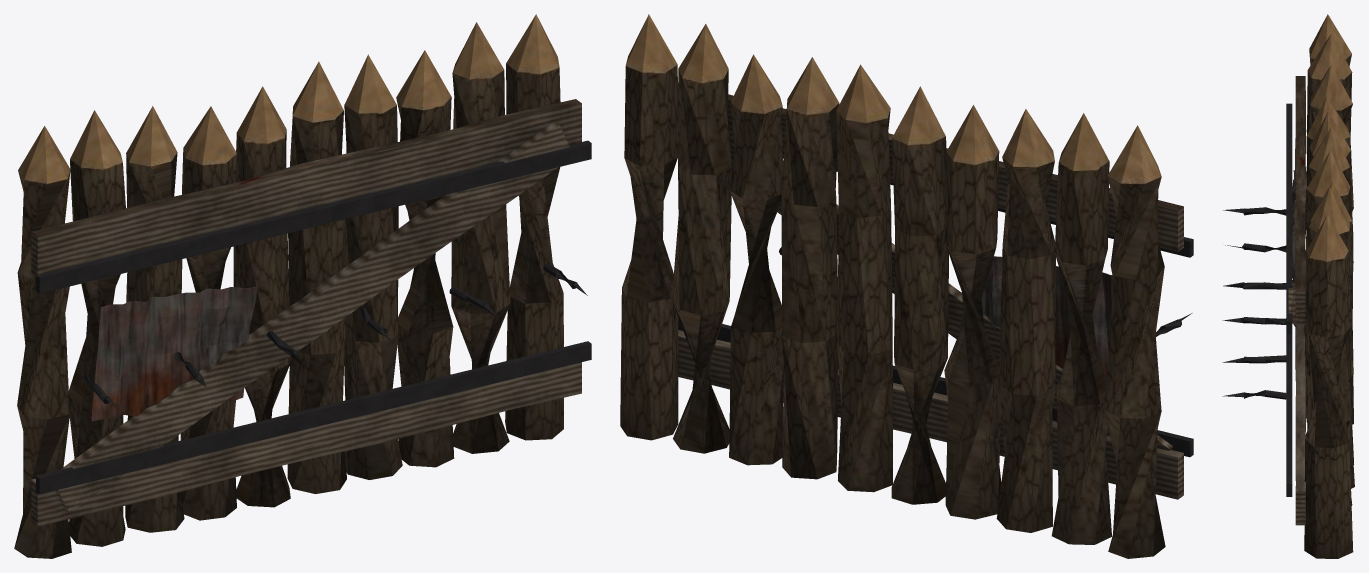
The model's file is ring_gate.glb.
3 renders of one model, left to right at view 1: azimuth 30°, elevation 25°; view 2: azimuth 150°, elevation 25°; view 3: azimuth 270°, elevation 25°, orthographic. The views are drawn at different scales.
Visible parts, largest first — view 1: ring_gate; view 2: ring_gate; view 3: ring_gate.
Part boxes in pixels (box(x1,y1,x2,y2)): ring_gate: box(14, 14, 591, 558); ring_gate: box(620, 14, 1193, 558); ring_gate: box(1222, 14, 1354, 558).
Bounding box in the file's own units: 3.6 × 2.65 × 0.9285.
1 material, 1 textured.
